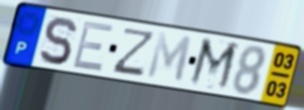8: (231, 43, 269, 97)
E: (70, 19, 116, 74)
M: (186, 36, 242, 94), (145, 30, 194, 85)
S: (38, 15, 78, 67)
Z: (109, 26, 158, 78)
